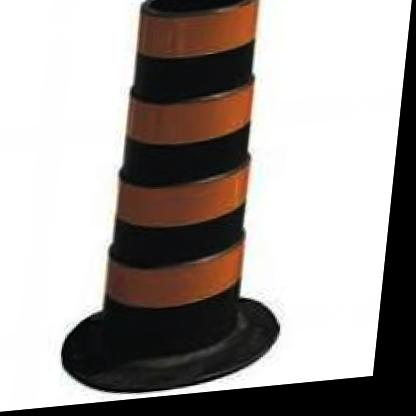obstacle: (101, 0, 276, 350)
